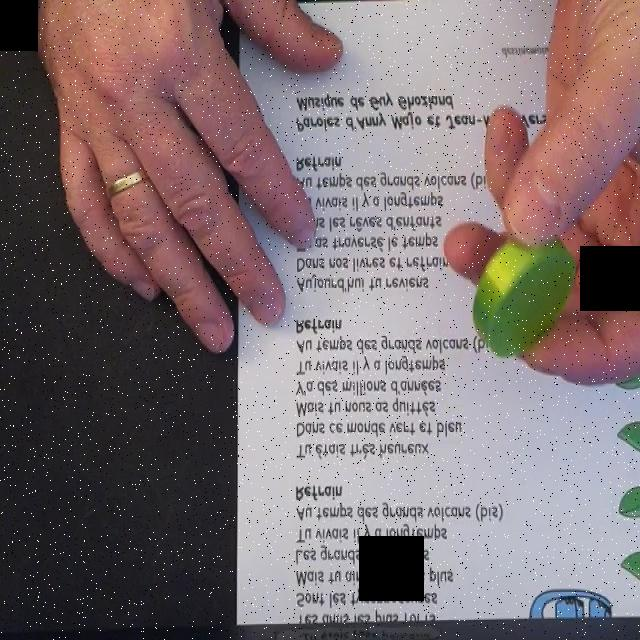round: (472, 228, 578, 358)
